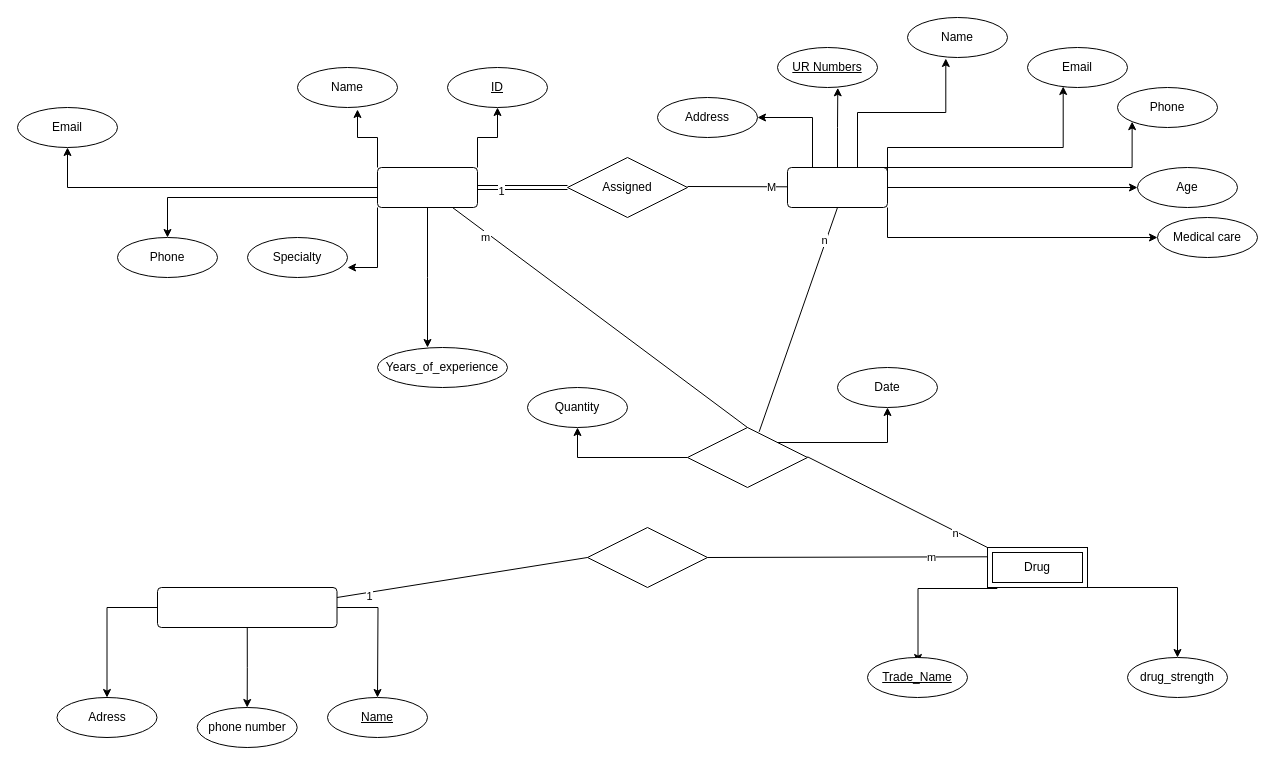
Image size: 1275x765. Some labels were removed from this diagram. Here are the shapes that lost their labels. From the top down, the centre of each, then its label:
At point (427, 187): "Doctor".
At point (837, 187): "Patient".
At point (747, 457): "Prescribe".
At point (647, 557): "make".
At point (246, 607): "Pharmaceutical_Company".
